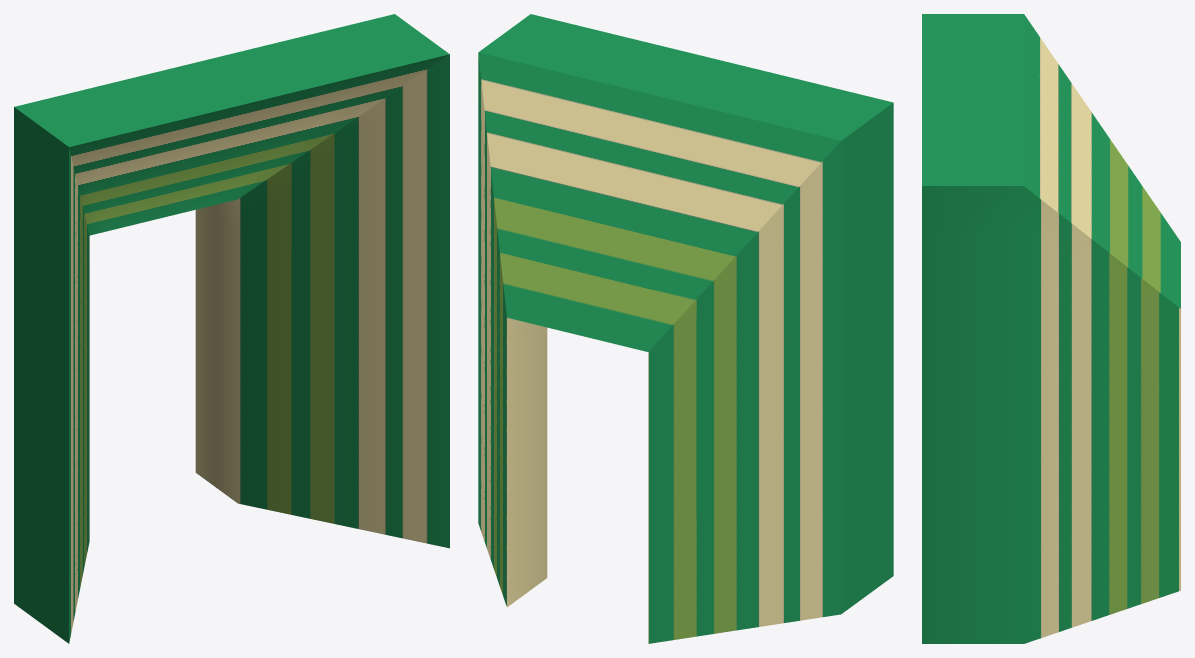
File: M_door_02.fbx
3 views of the same model, side by side, from view 1: azimuth 30°, elevation 25°; view 2: azimuth 150°, elevation 25°; view 3: azimuth 270°, elevation 25° (orthographic). The views are drawn at different scales.
Parts seen in each view (by area): view 1: Cube.008; view 2: Cube.008; view 3: Cube.008.
Part boxes in pixels (x1,y1,x2,y2): Cube.008: (14, 14, 449, 643); Cube.008: (478, 14, 893, 643); Cube.008: (922, 14, 1180, 643).
Size of the model in its own units: 413 by 515 by 262.
